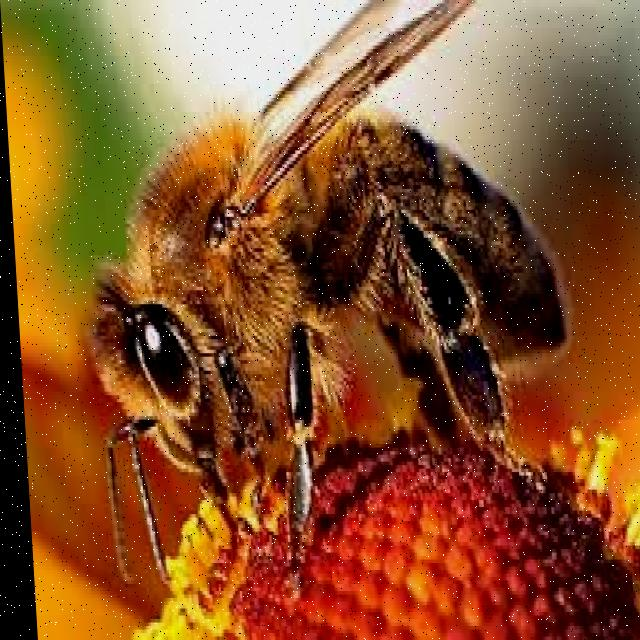Apis-mellifera-scutellata: (61, 2, 578, 618)
